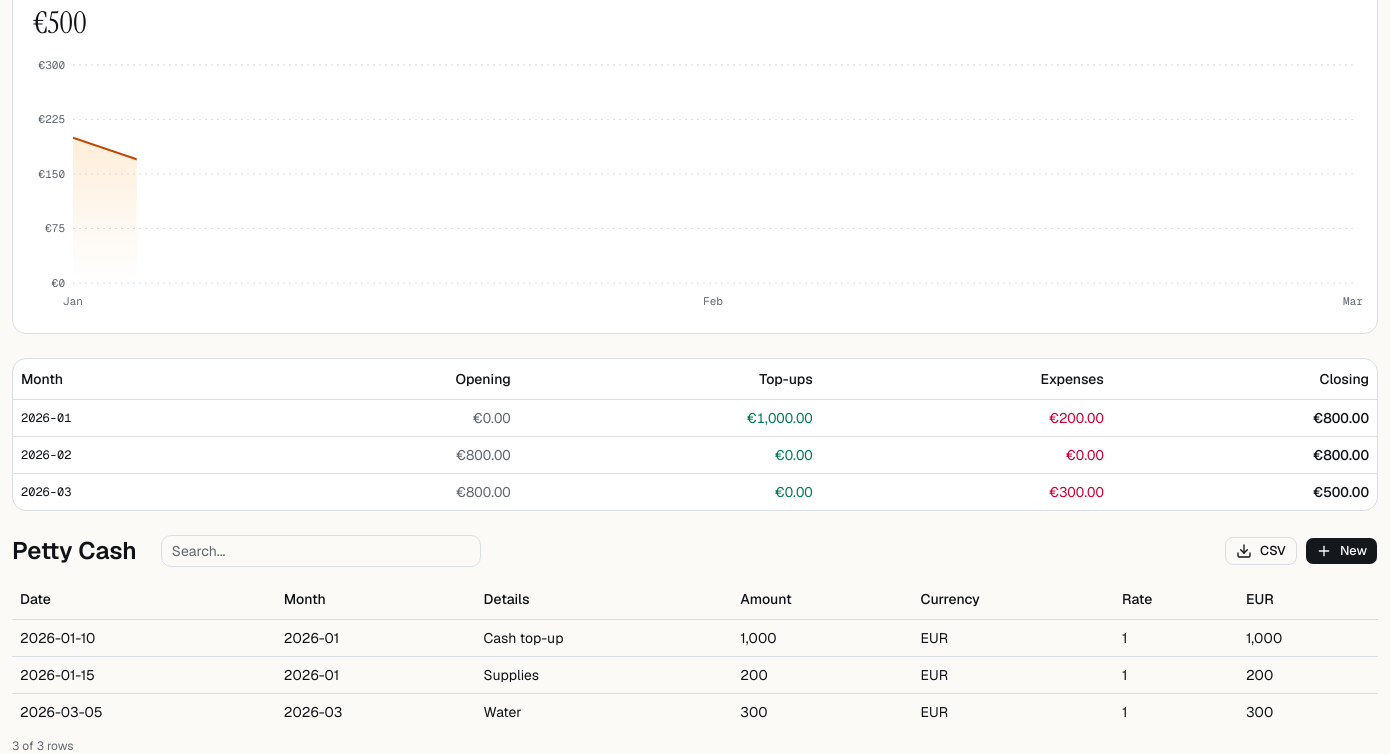
Test case: Petty Cash mini-dashboard › leaves the balance table alone when the grid is searched
(page scrolled)
Type "Water" into the field with placeholder "Search...". click: [321, 550]
box: [161, 534, 481, 566]
(page scrolled)
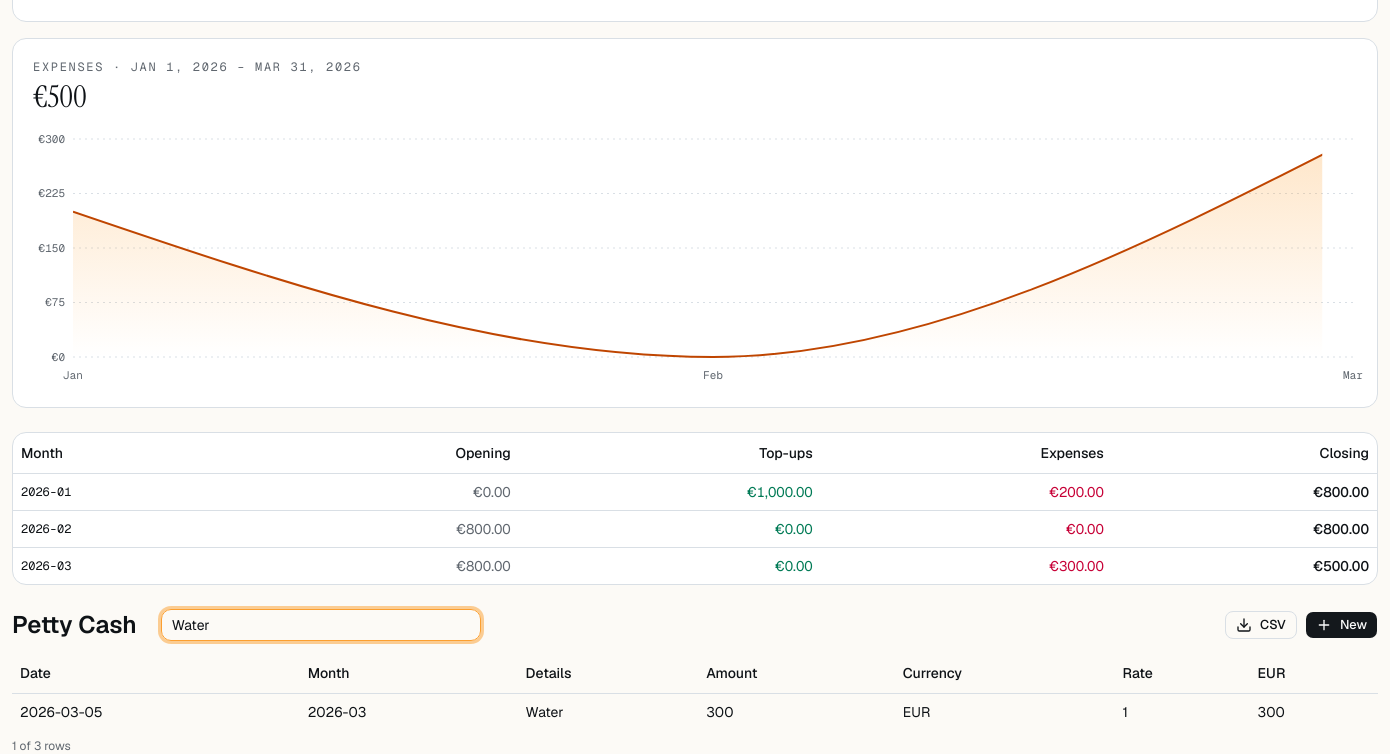
Expected: the text "Water" is shown, [518, 694, 698, 730]
Expected: the text "Supplies" is gone
